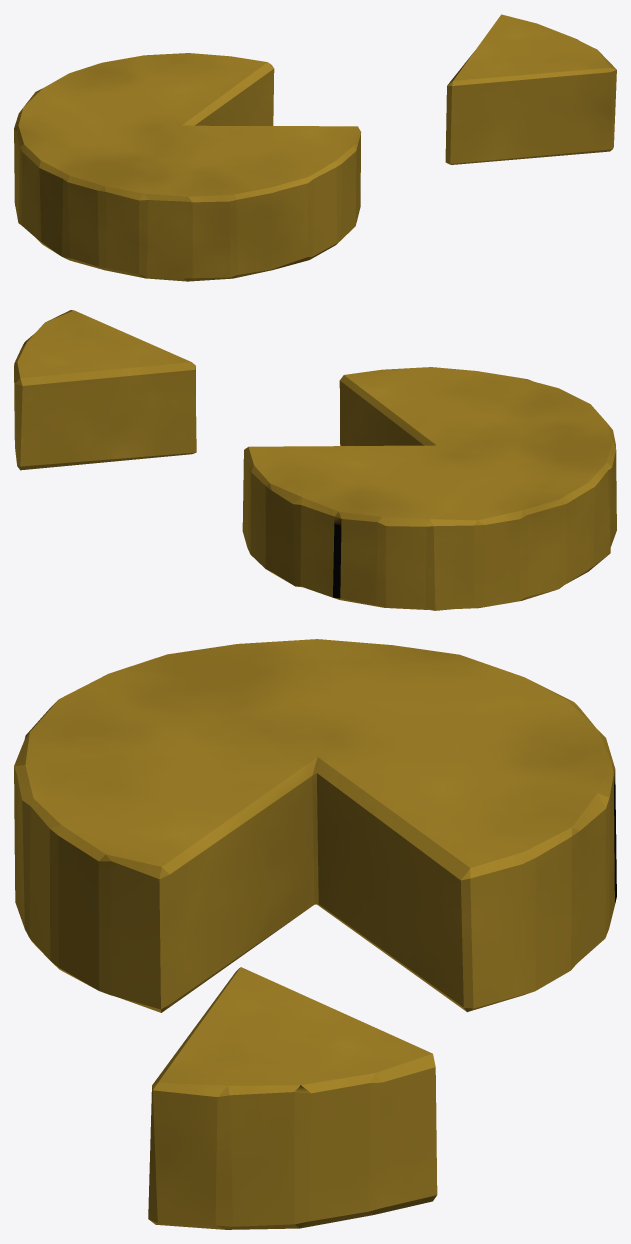
The model's file is cheese_wheel_01.glb.
3 views of the same model, one above another, from view 1: azimuth 30°, elevation 25°; view 2: azimuth 150°, elevation 25°; view 3: azimuth 270°, elevation 25° (orthographic). The views are drawn at different scales.
Parts seen in each view (by area): view 1: cheese_wheel_01; view 2: cheese_wheel_01; view 3: cheese_wheel_01.
Part boxes in pixels (<box>): cheese_wheel_01: <box>14,14,616,281</box>; cheese_wheel_01: <box>14,310,616,610</box>; cheese_wheel_01: <box>14,639,616,1229</box>.
Bounding box in the file's own units: 0.57 × 0.0877 × 0.3208.
Materials: 1 (1 with a texture image).
